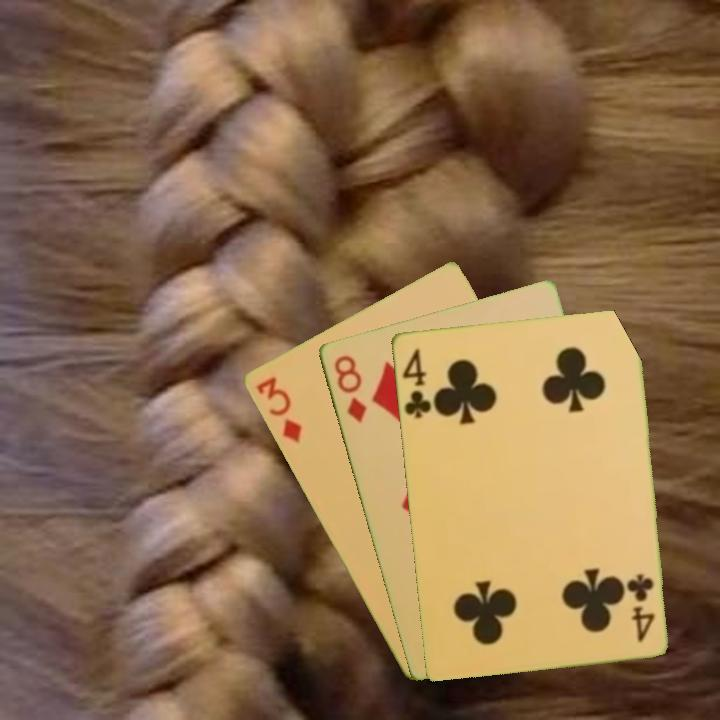3d: (252, 373, 304, 445)
4c: (398, 345, 434, 420), (626, 569, 657, 644)
8d: (330, 351, 369, 425)
